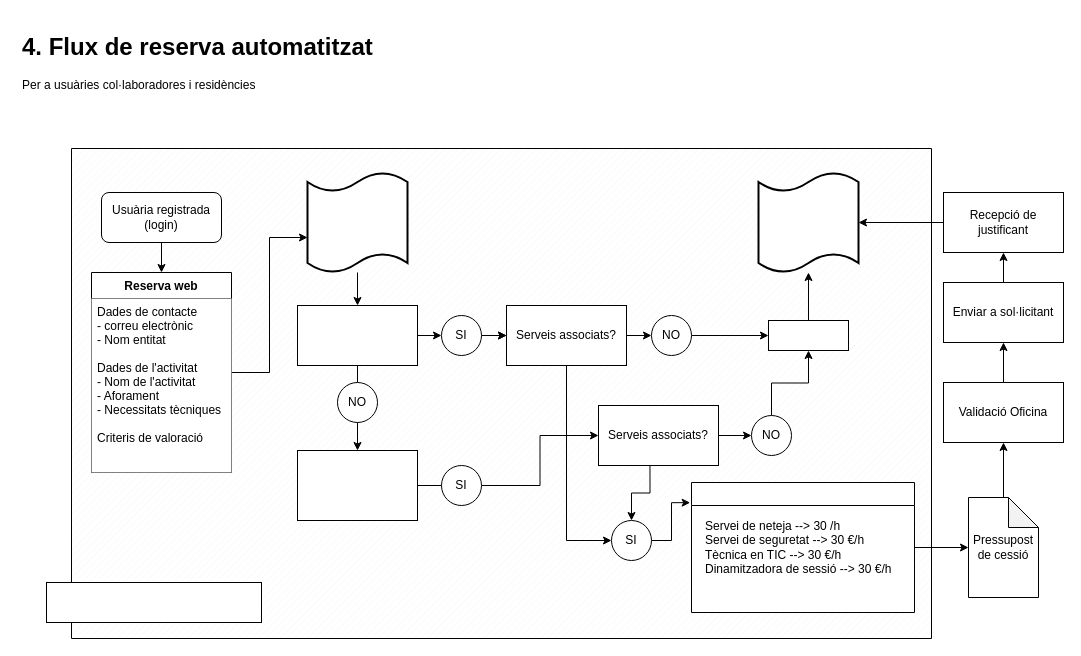
The diagram is 1081 pixels wide and 656 high, and some of its shapes have lost their labels. The shapes that lost their labels are listed below. From the top down, each one's box as (x1, y1, x2, y2) in pixels, then its label:
(306, 171, 408, 273): Calendari de reserves web NOT AVAILABLE
(757, 171, 859, 273): Calendari de reserves web BOOKED
(296, 304, 418, 366): Activitat gratuïta oberta a la ciutadania?
(768, 320, 848, 350): Gratuïtat
(296, 450, 418, 520): Activitat gratuïta tancada adreçada als membres de l'organització
(690, 482, 914, 612): Costos serveis
(46, 582, 262, 622): Accions automatitzaades a la web
